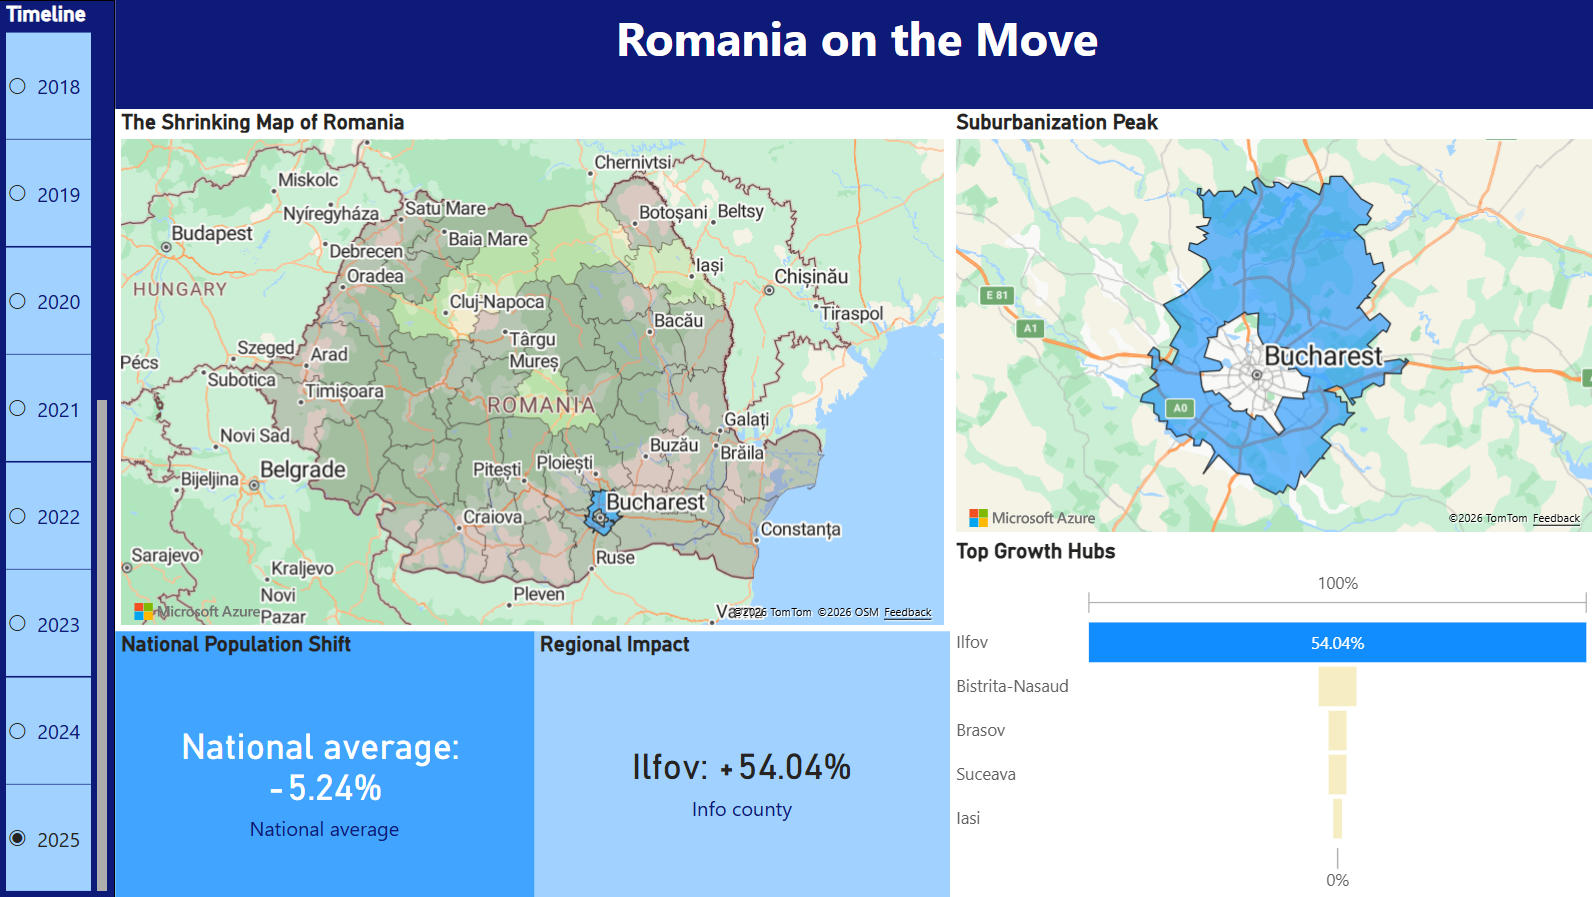

This screenshot's page, from the dashboard's own definition file:
{"tool":"powerbi","page":{"name":"Page 1","canvas":[1280,720],"ordinal":0},"visuals":[{"type":"azureMap","title":"The Shrinking Map of Romania","fields":{"Category":["TEMPO_POP105A_3_2_2026.Location_RO"]},"box":[93.3,87.3,667.6,418],"z":0},{"type":"listSlicer","title":"Timeline","fields":{"Values":["TEMPO_POP105A_3_2_2026.Year"]},"box":[0,0,93.1,720.7],"z":1000},{"type":"azureMap","title":"Suburbanization Peak","fields":{"Category":["TEMPO_POP105A_3_2_2026.Location_RO"]},"box":[761.4,87.1,518.6,342.9],"z":2000},{"type":"funnel","title":"Top Growth Hubs","fields":{"Y":["TEMPO_POP105A_3_2_2026.%Change"],"Category":["TEMPO_POP105A_3_2_2026.County"]},"box":[760.9,430.2,519.5,290.2],"z":3000},{"type":"card","title":"Regional Impact","fields":{"Values":["TEMPO_POP105A_3_2_2026.Info county"]},"box":[428.2,505.3,332.8,215.1],"z":4000},{"type":"card","title":"National Population Shift","fields":{"Values":["TEMPO_POP105A_3_2_2026.National_average"]},"box":[93.3,505.3,334.8,215.1],"z":5000},{"type":"textbox","box":[93.3,0,1187.1,87.3],"z":6000}]}

Visuals, with their boxes in screenshot pixels (x1, y1, x2, y2), scaled from the page's 1280x720 canvas onto the 1593x897 screenshot:
"The Shrinking Map of Romania" azureMap: Rect(116, 109, 947, 630)
"Timeline" listSlicer: Rect(0, 0, 116, 896)
"Suburbanization Peak" azureMap: Rect(948, 109, 1592, 536)
"Top Growth Hubs" funnel: Rect(947, 536, 1592, 896)
"Regional Impact" card: Rect(533, 630, 947, 896)
"National Population Shift" card: Rect(116, 630, 533, 896)
textbox: Rect(116, 0, 1592, 109)
